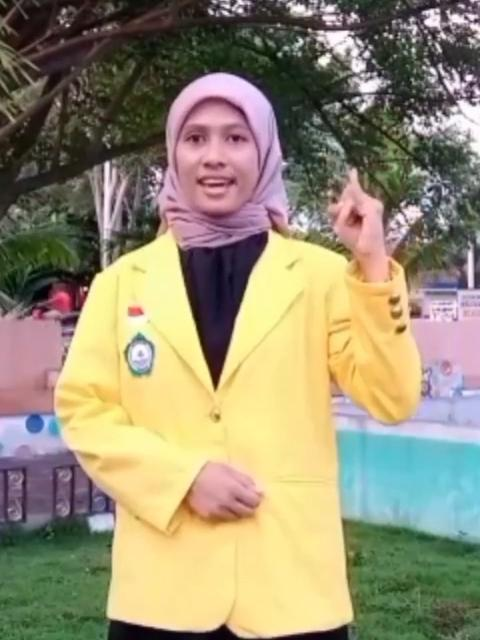J: (326, 168, 386, 264)
